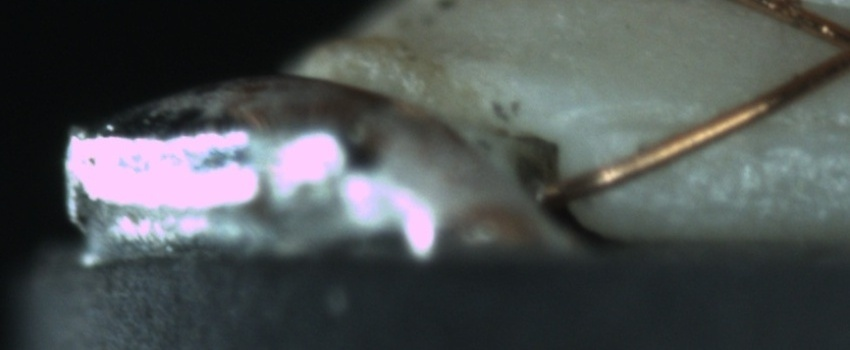CL: (807, 12, 850, 82)
DL: (608, 89, 848, 163)
